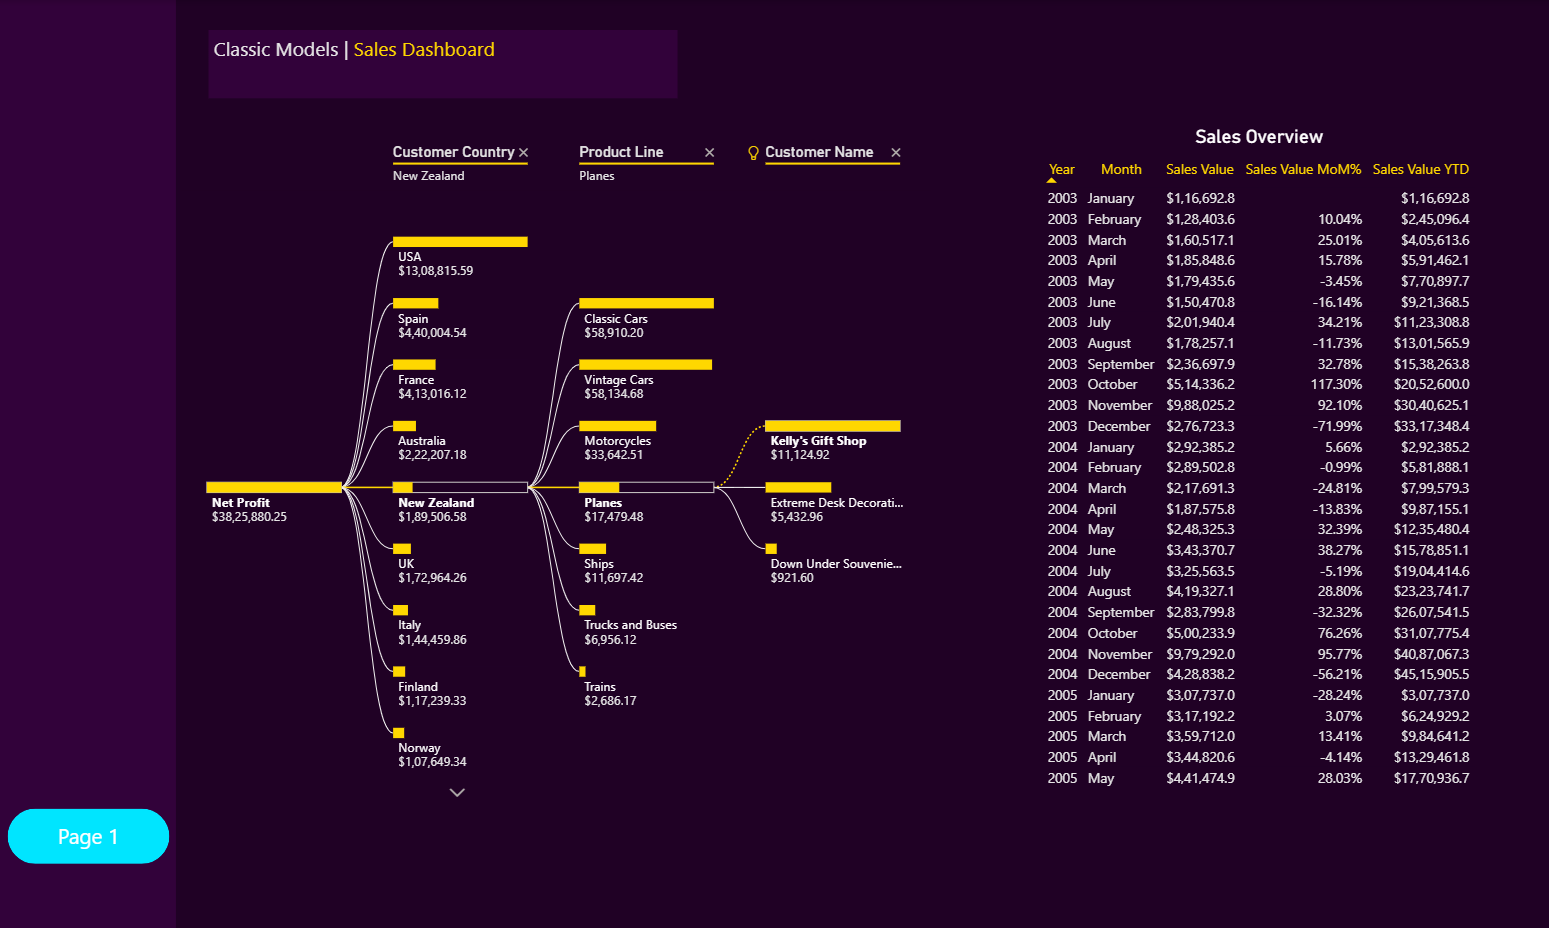

Layout of this report page (visuals, bound fields, positions):
{"tool":"powerbi","page":{"name":"Sales overview - Page 2","canvas":[1500,900],"ordinal":1},"visuals":[{"type":"shape","box":[0,0,170,900.6],"z":0},{"type":"decompositionTreeVisual","fields":{"Analyze":["classicmodels sales_data_for_power_bi.Net Profit"],"ExplainBy":["classicmodels sales_data_for_power_bi.customer_country","classicmodels sales_data_for_power_bi.productLine","classicmodels sales_data_for_power_bi.customerName"]},"box":[169.6,121.8,735,675.6],"z":1000},{"type":"textbox","box":[202,29.5,453.1,65.9],"z":2000},{"type":"tableEx","title":"Sales Overview","fields":{"Values":["classicmodels sales_data_for_power_bi.orderDate.Variation.Date Hierarchy.Year","classicmodels sales_data_for_power_bi.orderDate.Variation.Date Hierarchy.Month","Sum(classicmodels sales_data_for_power_bi.sales_value)","classicmodels sales_data_for_power_bi.Sum of sales_value MoM%","classicmodels sales_data_for_power_bi.Sum of sales_value YTD"]},"box":[1000.3,121.8,433.5,675.6],"z":3000},{"type":"actionButton","box":[7.2,781.4,156.6,53.6],"z":4000}]}

Visuals, with their boxes in screenshot pixels (x1, y1, x2, y2), scaled from the page's 1500x900 canvas onto the 1549x928 screenshot:
shape: region(0, 0, 176, 927)
decompositionTreeVisual - classicmodels sales_data_for_power_bi.Net Profit x classicmodels sales_data_for_power_bi.customer_country: region(175, 126, 934, 822)
textbox: region(209, 30, 676, 98)
"Sales Overview" tableEx: region(1033, 126, 1481, 822)
actionButton: region(7, 806, 169, 861)
